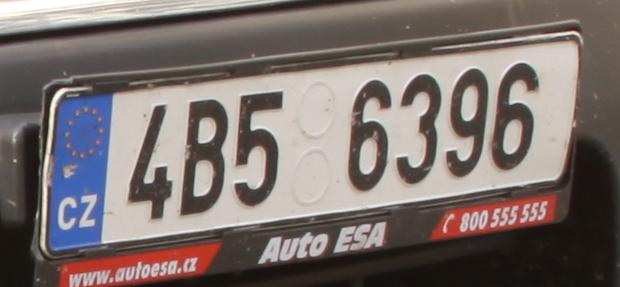3: (394, 74, 440, 186)
4: (124, 107, 175, 219)
5: (234, 88, 286, 206)
6: (345, 75, 392, 193), (493, 62, 538, 172)
9: (446, 67, 486, 179)
B: (181, 100, 229, 213)
